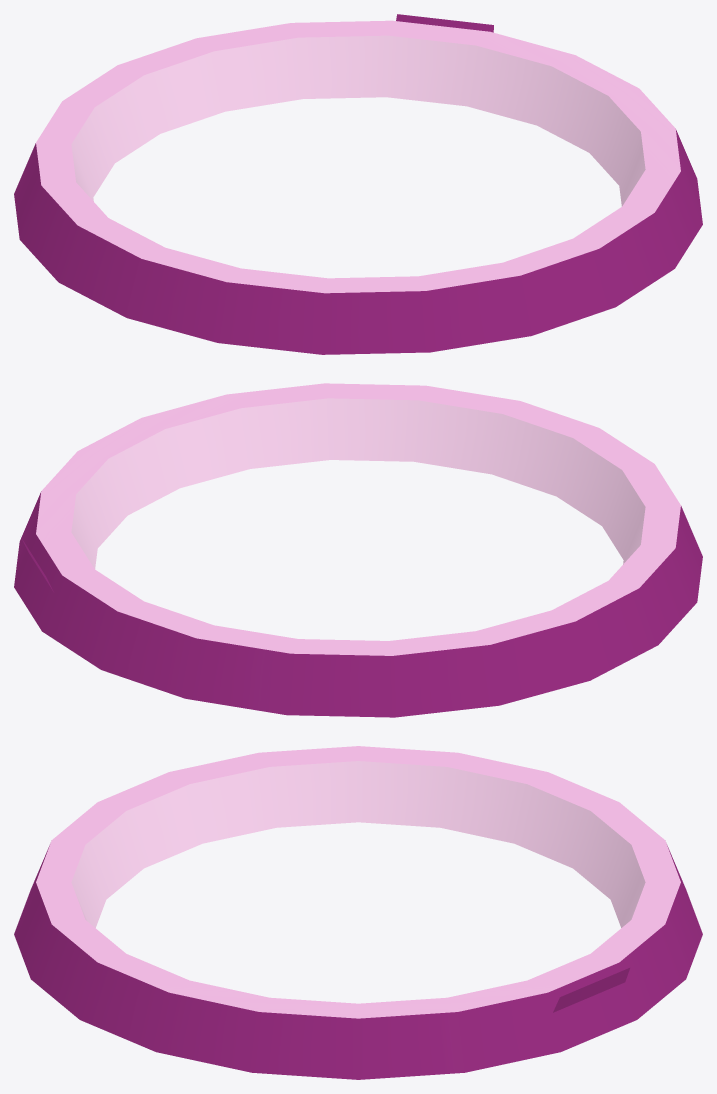
File: Onion_Slice_Onion_0.glb
3 views of the same model, one above another, from view 1: azimuth 30°, elevation 25°; view 2: azimuth 150°, elevation 25°; view 3: azimuth 270°, elevation 25° (orthographic).
Visible parts, largest first — view 1: Onion_Slice_Onion_0; view 2: Onion_Slice_Onion_0; view 3: Onion_Slice_Onion_0.
Boxes of the visible parts, x1,y1,x2,y2 form: Onion_Slice_Onion_0: [14, 14, 702, 354]; Onion_Slice_Onion_0: [14, 383, 702, 717]; Onion_Slice_Onion_0: [14, 746, 702, 1079].
Size of the model in its own units: 0.12 by 0.01 by 0.12.
Materials: 1 (1 with a texture image).
